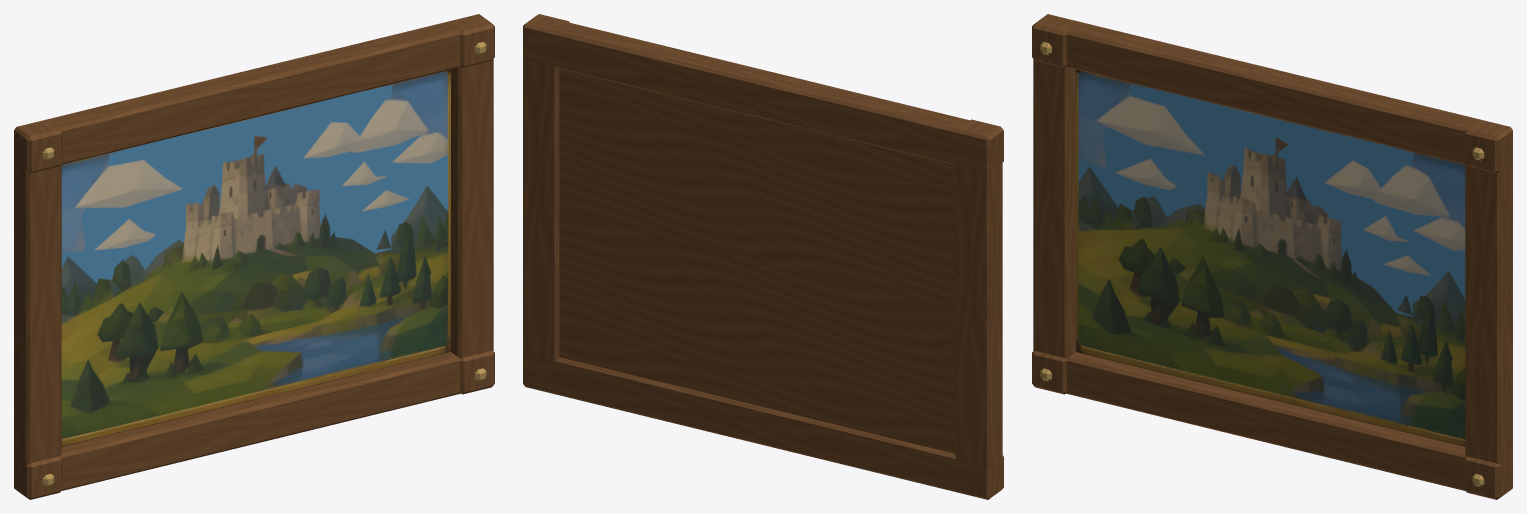
The model's file is vestibule-painting.glb.
3 renders of one model, left to right at view 1: azimuth 30°, elevation 25°; view 2: azimuth 150°, elevation 25°; view 3: azimuth 330°, elevation 25°, orthographic.
Visible parts, largest first — view 1: Recessed flat painted canvas, Oak frame crossbar.001, Oak frame crossbar, Oak frame upright, Oak frame upright.001, Frame corner block.001, Frame corner block, Frame corner block.003, Frame corner block.002; view 2: Inset oak canvas support, Oak frame crossbar.001, Oak frame crossbar, Oak frame upright, Oak frame upright.001, Frame corner block.001; view 3: Recessed flat painted canvas, Oak frame crossbar.001, Oak frame crossbar, Oak frame upright.001, Oak frame upright, Frame corner block.003, Frame corner block.002, Frame corner block.001, Frame corner block.
Part boxes in pixels (x1,y1,x2,y2): Recessed flat painted canvas: (61,70,450,446); Oak frame crossbar.001: (14,14,493,164); Oak frame crossbar: (61,352,460,490); Oak frame upright: (14,130,61,498); Oak frame upright.001: (451,23,493,358); Frame corner block.001: (14,120,62,173); Frame corner block: (14,456,62,499); Frame corner block.003: (450,15,494,67); Frame corner block.002: (460,351,494,394); Inset oak canvas support: (559,69,955,453); Oak frame crossbar.001: (523,15,1002,171); Oak frame crossbar: (524,354,992,499); Oak frame upright: (955,128,1002,499); Oak frame upright.001: (523,26,559,394); Frame corner block.001: (959,119,1003,169); Recessed flat painted canvas: (1076,70,1465,446); Oak frame crossbar.001: (1033,14,1512,169); Oak frame crossbar: (1066,352,1465,490); Oak frame upright.001: (1465,127,1512,498); Oak frame upright: (1033,59,1075,358); Frame corner block.003: (1464,120,1512,173); Frame corner block.002: (1464,456,1512,499); Frame corner block.001: (1032,15,1076,67); Frame corner block: (1032,351,1066,394).
Bounding box in the file's own units: 1.05 × 0.78 × 0.078.
4 materials, 3 textured.
